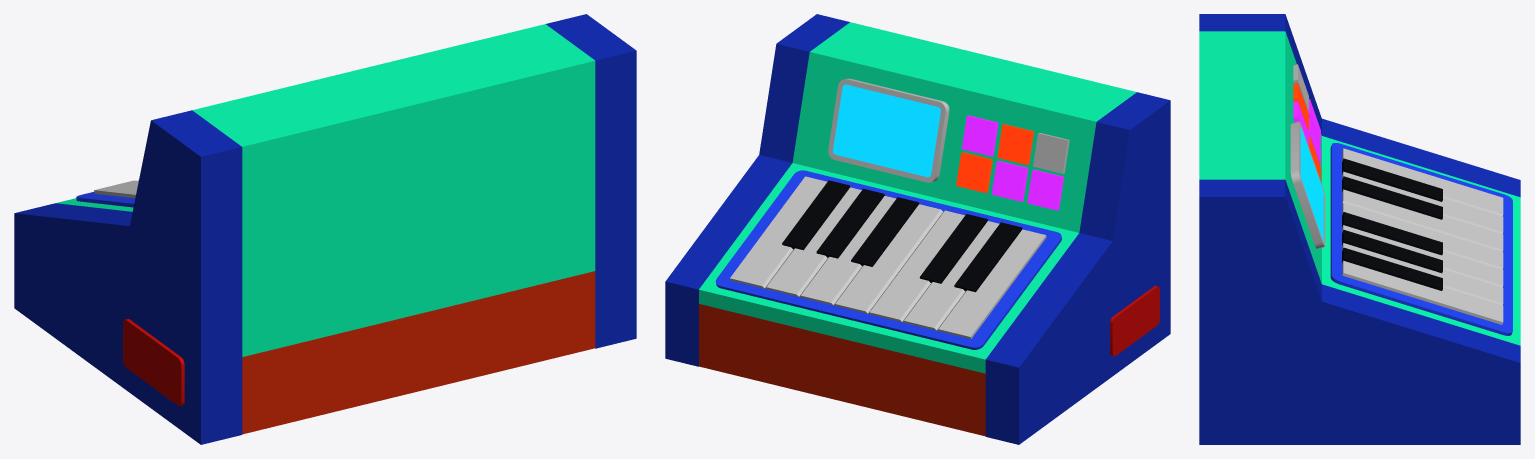
File: Piano_l 2.fbx
3 renders of one model, left to right at view 1: azimuth 30°, elevation 25°; view 2: azimuth 150°, elevation 25°; view 3: azimuth 270°, elevation 25°, orthographic. The views are drawn at different scales.
Parts seen in each view (by area): view 1: Piano_l; view 2: Piano_l; view 3: Piano_l.
Part boxes in pixels (<box>): Piano_l: <box>14,14,636,444</box>; Piano_l: <box>665,14,1170,444</box>; Piano_l: <box>1199,14,1520,444</box>.
Size of the model in its own units: 96.36 by 71 by 60.42.
